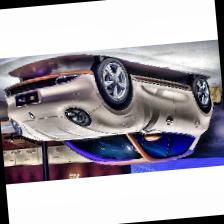EV: (4, 47, 220, 178)
